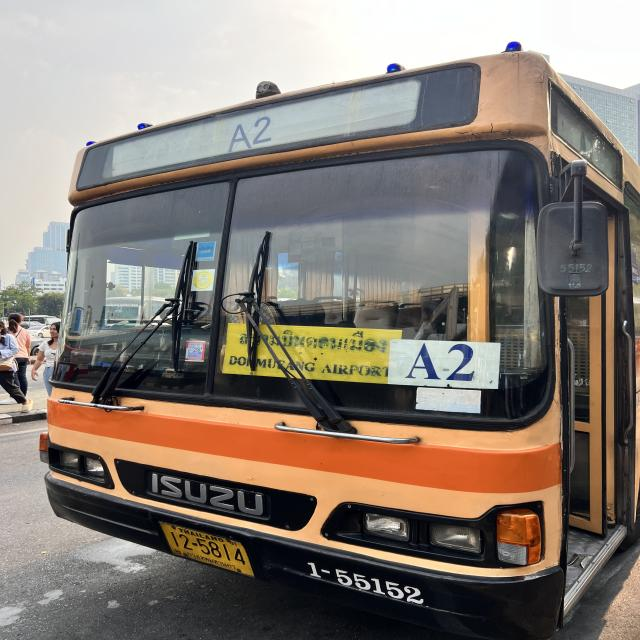BMTA-bus: (42, 46, 640, 640)
Bus-Line-Number: (218, 108, 280, 161)
Destination-Sign-Normal-Expressway: (224, 323, 400, 383)
